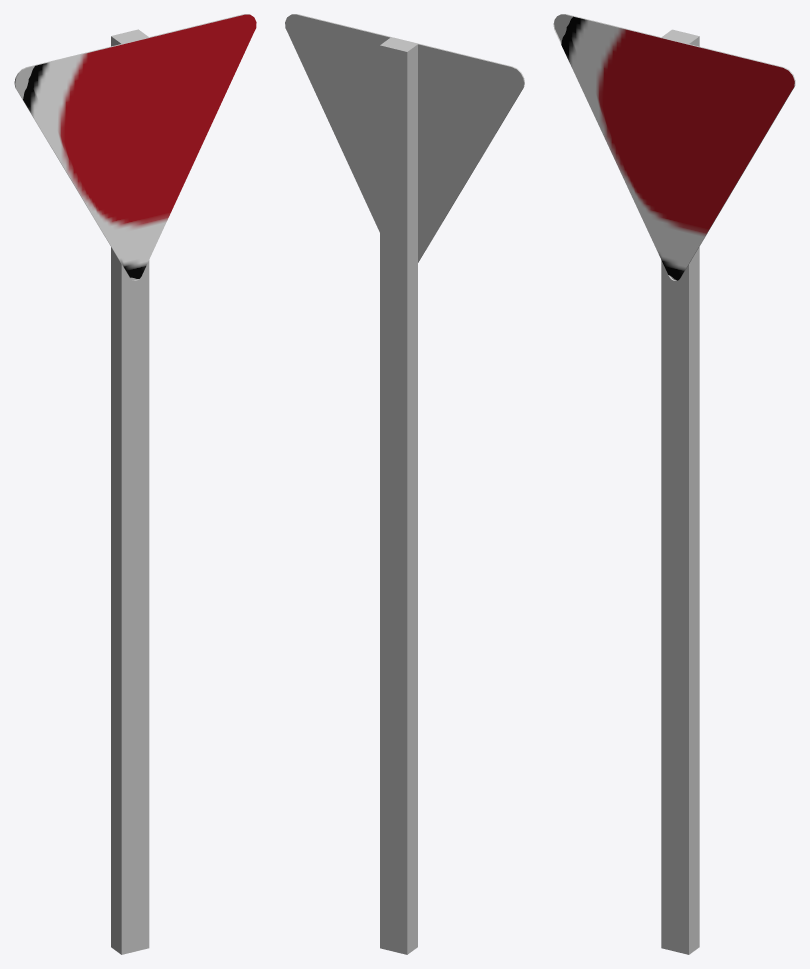
Rendered from yieldsign.fbx.
3 views of the same model, side by side, from view 1: azimuth 30°, elevation 25°; view 2: azimuth 150°, elevation 25°; view 3: azimuth 330°, elevation 25° (orthographic).
Visible parts, largest first — view 1: Yield+Sign; view 2: Yield+Sign; view 3: Yield+Sign.
Boxes of the visible parts, x1,y1,x2,y2 form: Yield+Sign: [14, 14, 256, 954]; Yield+Sign: [285, 14, 524, 954]; Yield+Sign: [553, 14, 795, 954].
Size of the model in its own units: 55.74 by 201 by 4.63.
